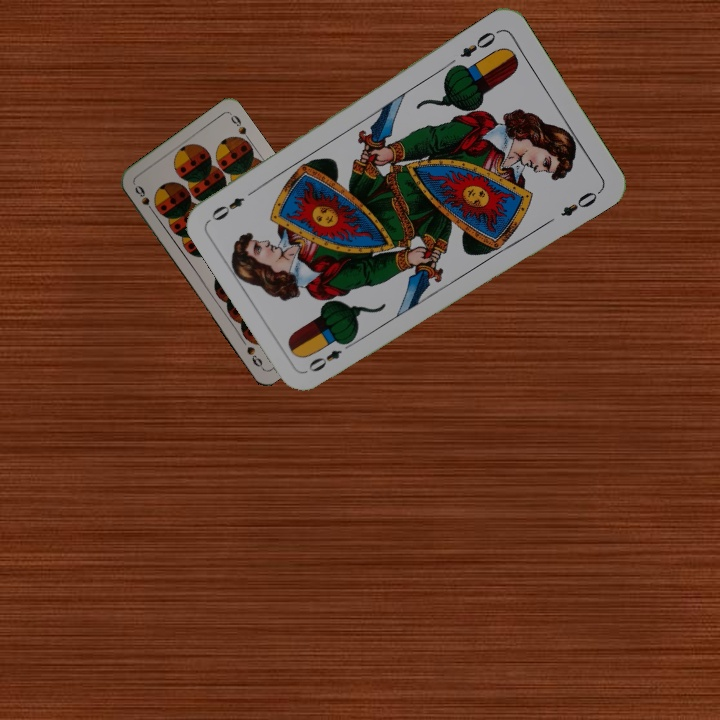EO: (304, 336, 357, 375), (456, 26, 502, 60)
S9: (131, 181, 158, 217)
